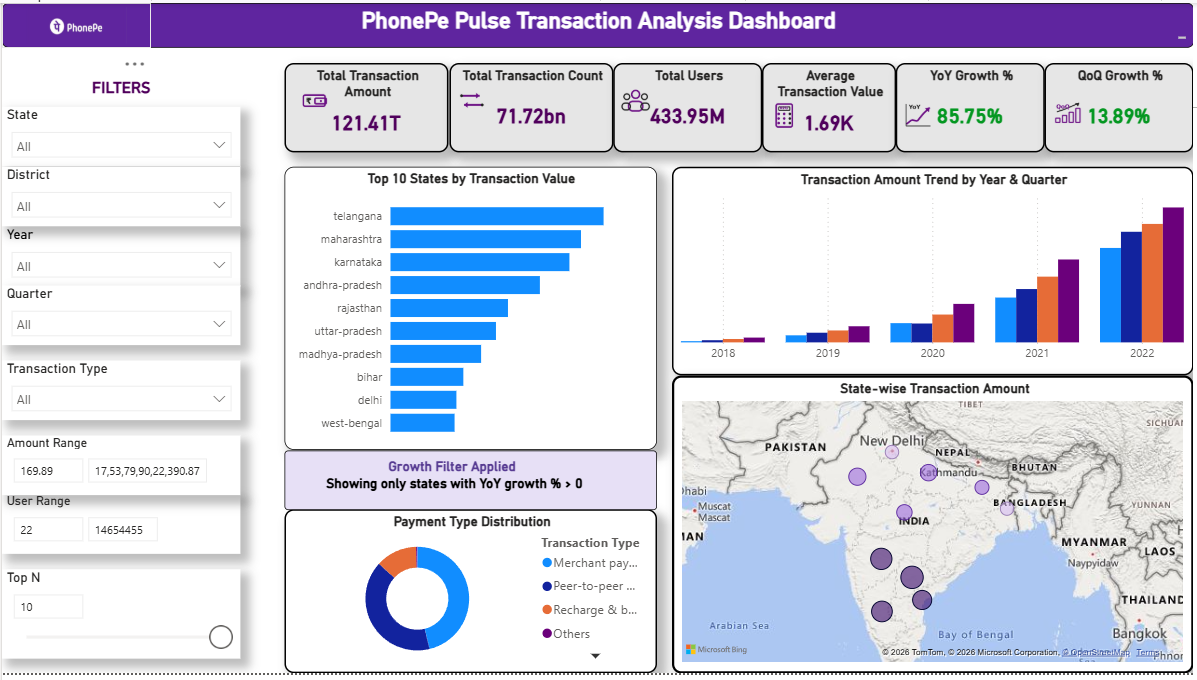

The dashboard page shown, as its layout file describes it:
{"tool":"powerbi","page":{"name":"Transaction Analysis","canvas":[1280,720],"ordinal":0},"visuals":[{"type":"card","title":"Total Transaction Amount","fields":{"Values":["District_summary.Total Transaction Amount"]},"box":[304,64,176,96],"z":0},{"type":"card","title":"Total Transaction Count","fields":{"Values":["District_summary.Total Transaction Count"]},"box":[480,64,176,96],"z":1000},{"type":"card","title":"Total Users","fields":{"Values":["District_summary.Total Users"]},"box":[656,64,160,96],"z":2000},{"type":"card","title":"Average Transaction Value","fields":{"Values":["District_summary.Average Transaction Value"]},"box":[816,64,144,96],"z":3000},{"type":"card","title":"YoY Growth %","fields":{"Values":["District_summary.YoY Growth %"]},"box":[960,64,160,96],"z":4000},{"type":"card","title":"QoQ Growth %","fields":{"Values":["District_summary.QoQ Growth %"]},"box":[1120,64,160,96],"z":5000},{"type":"image","box":[304,80,64,48],"z":6000},{"type":"image","box":[480,80,48,48],"z":7000},{"type":"image","box":[656,80,48,48],"z":8000},{"type":"image","box":[800,96,80,48],"z":9000},{"type":"image","box":[960,96,48,48],"z":10000},{"type":"image","box":[1120,80,48,80],"z":11000},{"type":"shape","title":"FILTERS","box":[0,80,256,640],"z":12000},{"type":"clusteredColumnChart","title":"Transaction Amount Trend by Year & Quarter","fields":{"Category":["District_summary.year"],"Y":["District_summary.Total Transaction Amount"],"Series":["District_summary.quarter"]},"box":[720,176,560,224],"z":13000},{"type":"donutChart","title":"Payment Type Distribution","fields":{"Category":["aggregated_transaction.trans_type"],"Y":["Sum(aggregated_transaction.trans_counts)"]},"box":[304,544,400,176],"z":14000},{"type":"map","title":"State-wise Transaction Amount","fields":{"Category":["District_summary.states"],"Size":["District_summary.Total Transaction Amount"]},"box":[720,400,560,320],"z":15000},{"type":"textbox","box":[304,272,144,32],"z":16000},{"type":"textbox","title":"  PhonePe Pulse Transaction Analysis Dashboard","box":[0,0,1280,48],"z":17000},{"type":"clusteredBarChart","title":"Top 10 States by Transaction Value","fields":{"Category":["District_summary.State"],"Y":["District_summary.Total Transaction Amount"]},"box":[304,176,400,304],"z":18000},{"type":"slicer","title":"Year","fields":{"Values":["District_summary.year"]},"box":[0,240,256,64],"z":19000},{"type":"slicer","title":"Quarter","fields":{"Values":["District_summary.quarter"]},"box":[0,304,256,64],"z":20000},{"type":"slicer","title":"State","fields":{"Values":["District_summary.states"]},"box":[0,112,256,64],"z":21000},{"type":"slicer","title":"District","fields":{"Values":["District_summary.district"]},"box":[0,176,256,64],"z":22000},{"type":"slicer","title":"Transaction Type","fields":{"Values":["aggregated_transaction.trans_type"]},"box":[0,384,256,64],"z":23000},{"type":"slicer","title":"User Range","fields":{"Values":["District_summary.registered_user_counts"]},"box":[0,528,256,64],"z":24000},{"type":"slicer","title":"   Amount Range","fields":{"Values":["District_summary.amount"]},"box":[0,464,256,64],"z":25000},{"type":"textbox","box":[304,480,400,64],"z":27000},{"type":"image","box":[0,0,160,48],"z":28000},{"type":"slicer","title":"Top N","fields":{"Values":["Top N 2.Top N"]},"box":[0,608,256,96],"z":29000}]}

Visuals, with their boxes in screenshot pixels (x1, y1, x2, y2), scaled from the page's 1280x720 canvas onto the 1197x680 screenshot:
"Total Transaction Amount" card: 284, 60, 449, 151
"Total Transaction Count" card: 449, 60, 613, 151
"Total Users" card: 613, 60, 763, 151
"Average Transaction Value" card: 763, 60, 898, 151
"YoY Growth %" card: 898, 60, 1047, 151
"QoQ Growth %" card: 1047, 60, 1196, 151
image: 284, 76, 344, 121
image: 449, 76, 494, 121
image: 613, 76, 658, 121
image: 748, 91, 823, 136
image: 898, 91, 943, 136
image: 1047, 76, 1092, 151
"FILTERS" shape: 0, 76, 239, 679
"Transaction Amount Trend by Year & Quarter" clusteredColumnChart: 673, 166, 1196, 378
"Payment Type Distribution" donutChart: 284, 514, 658, 679
"State-wise Transaction Amount" map: 673, 378, 1196, 679
textbox: 284, 257, 419, 287
"  PhonePe Pulse Transaction Analysis Dashboard" textbox: 0, 0, 1196, 45
"Top 10 States by Transaction Value" clusteredBarChart: 284, 166, 658, 453
"Year" slicer: 0, 227, 239, 287
"Quarter" slicer: 0, 287, 239, 348
"State" slicer: 0, 106, 239, 166
"District" slicer: 0, 166, 239, 227
"Transaction Type" slicer: 0, 363, 239, 423
"User Range" slicer: 0, 499, 239, 559
"   Amount Range" slicer: 0, 438, 239, 499
textbox: 284, 453, 658, 514
image: 0, 0, 150, 45
"Top N" slicer: 0, 574, 239, 665
